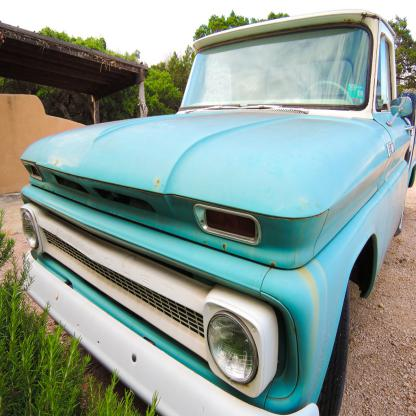Car: (20, 9, 415, 415)
Truck: (19, 9, 415, 415)
